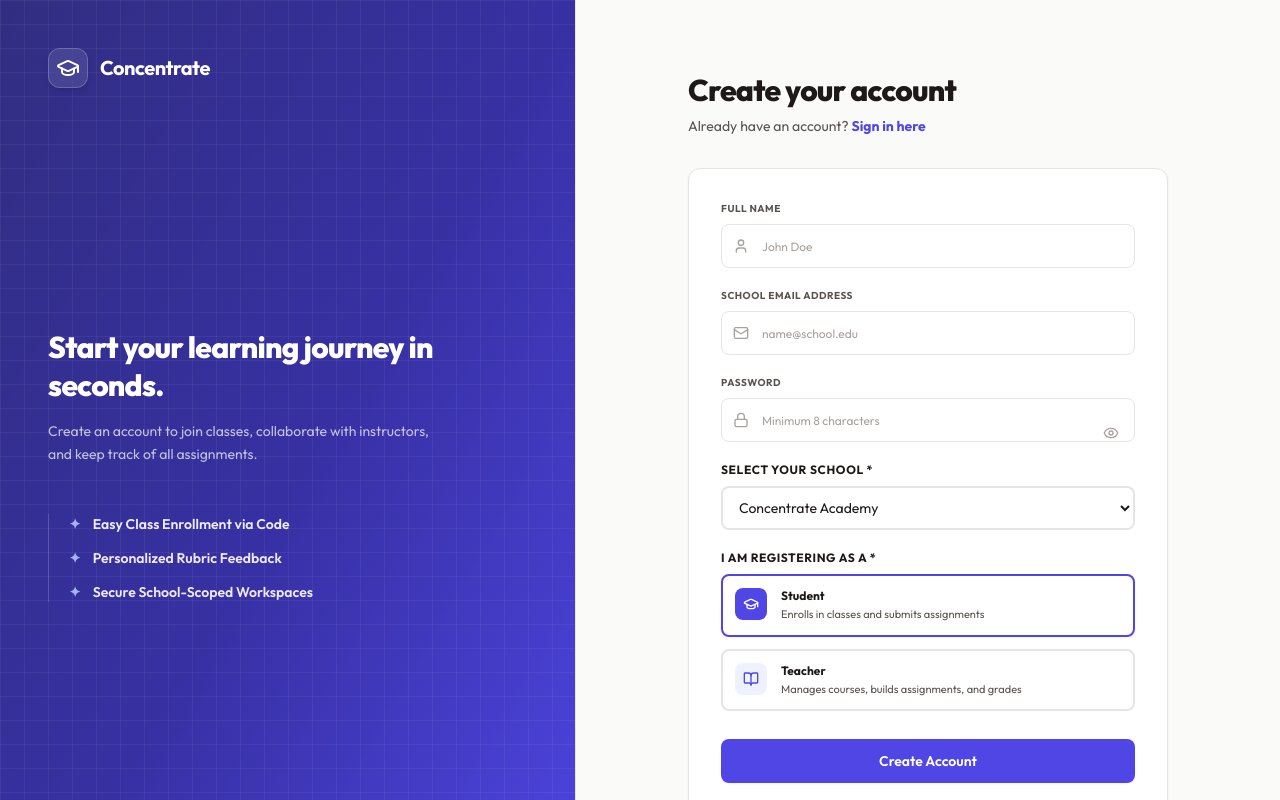
Test: RegisterPage › shows a validation error toast when submitting with an empty name
The width and height of the screenshot is (1280, 800).
Click the button "Create Account" at (928, 761), box [721,739,1135,783]
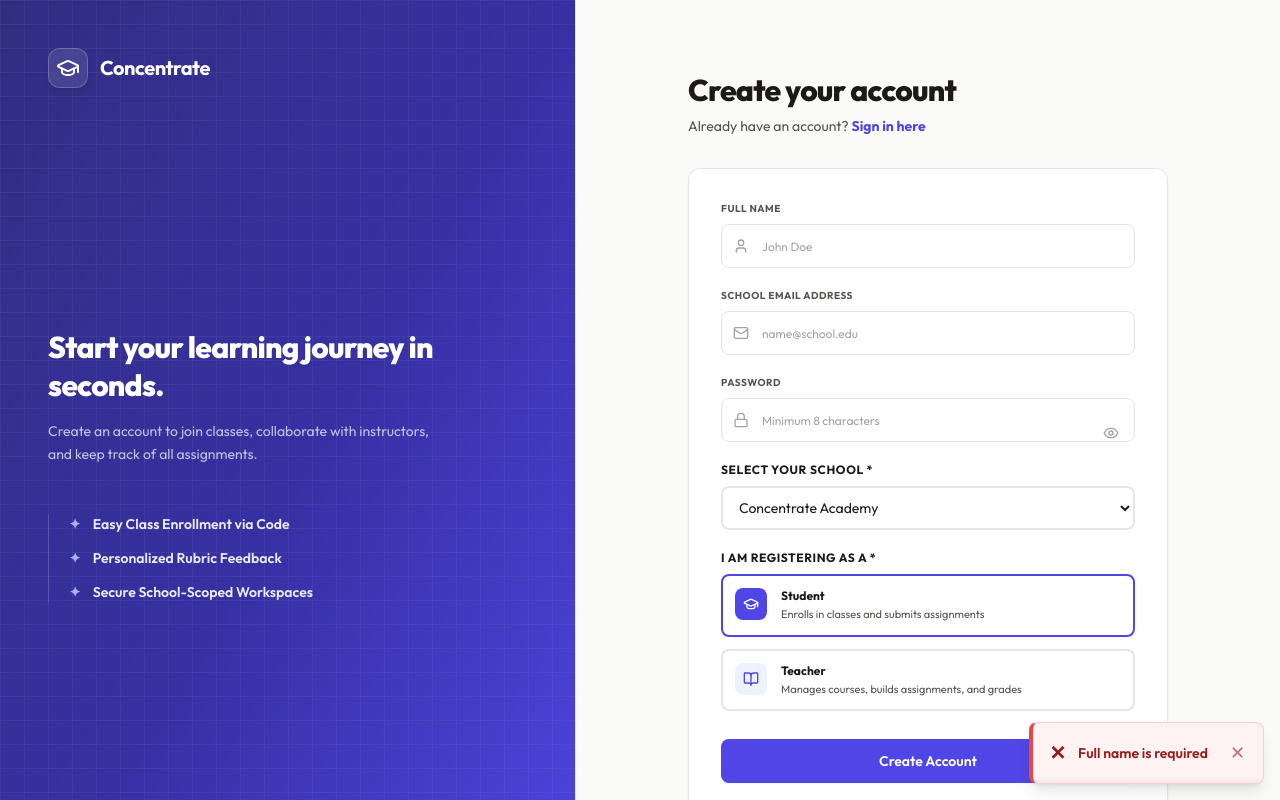
Result: the text "Full name is required" is shown at [1078,743,1216,763]
